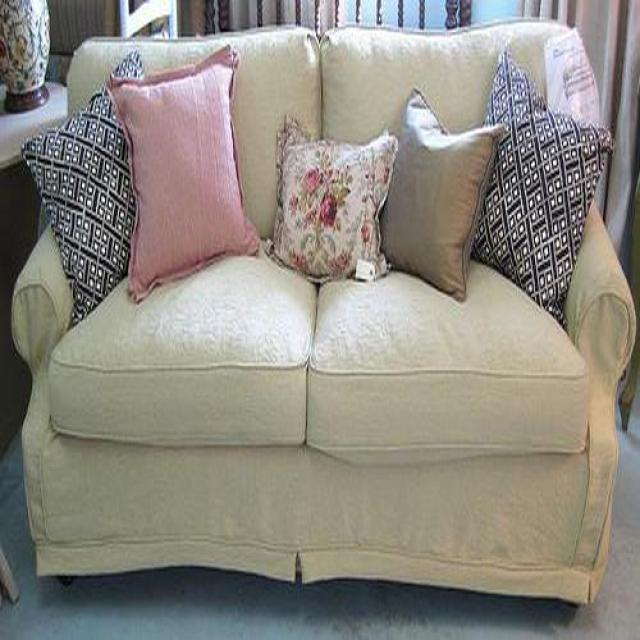sofa: (8, 20, 639, 609)
